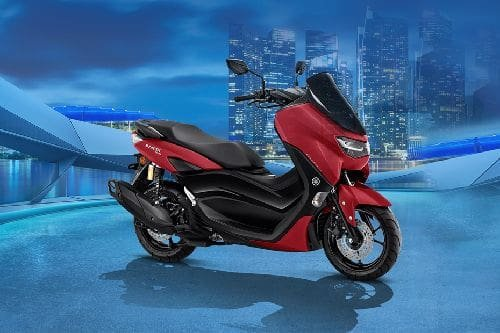motor: (115, 76, 409, 283)
